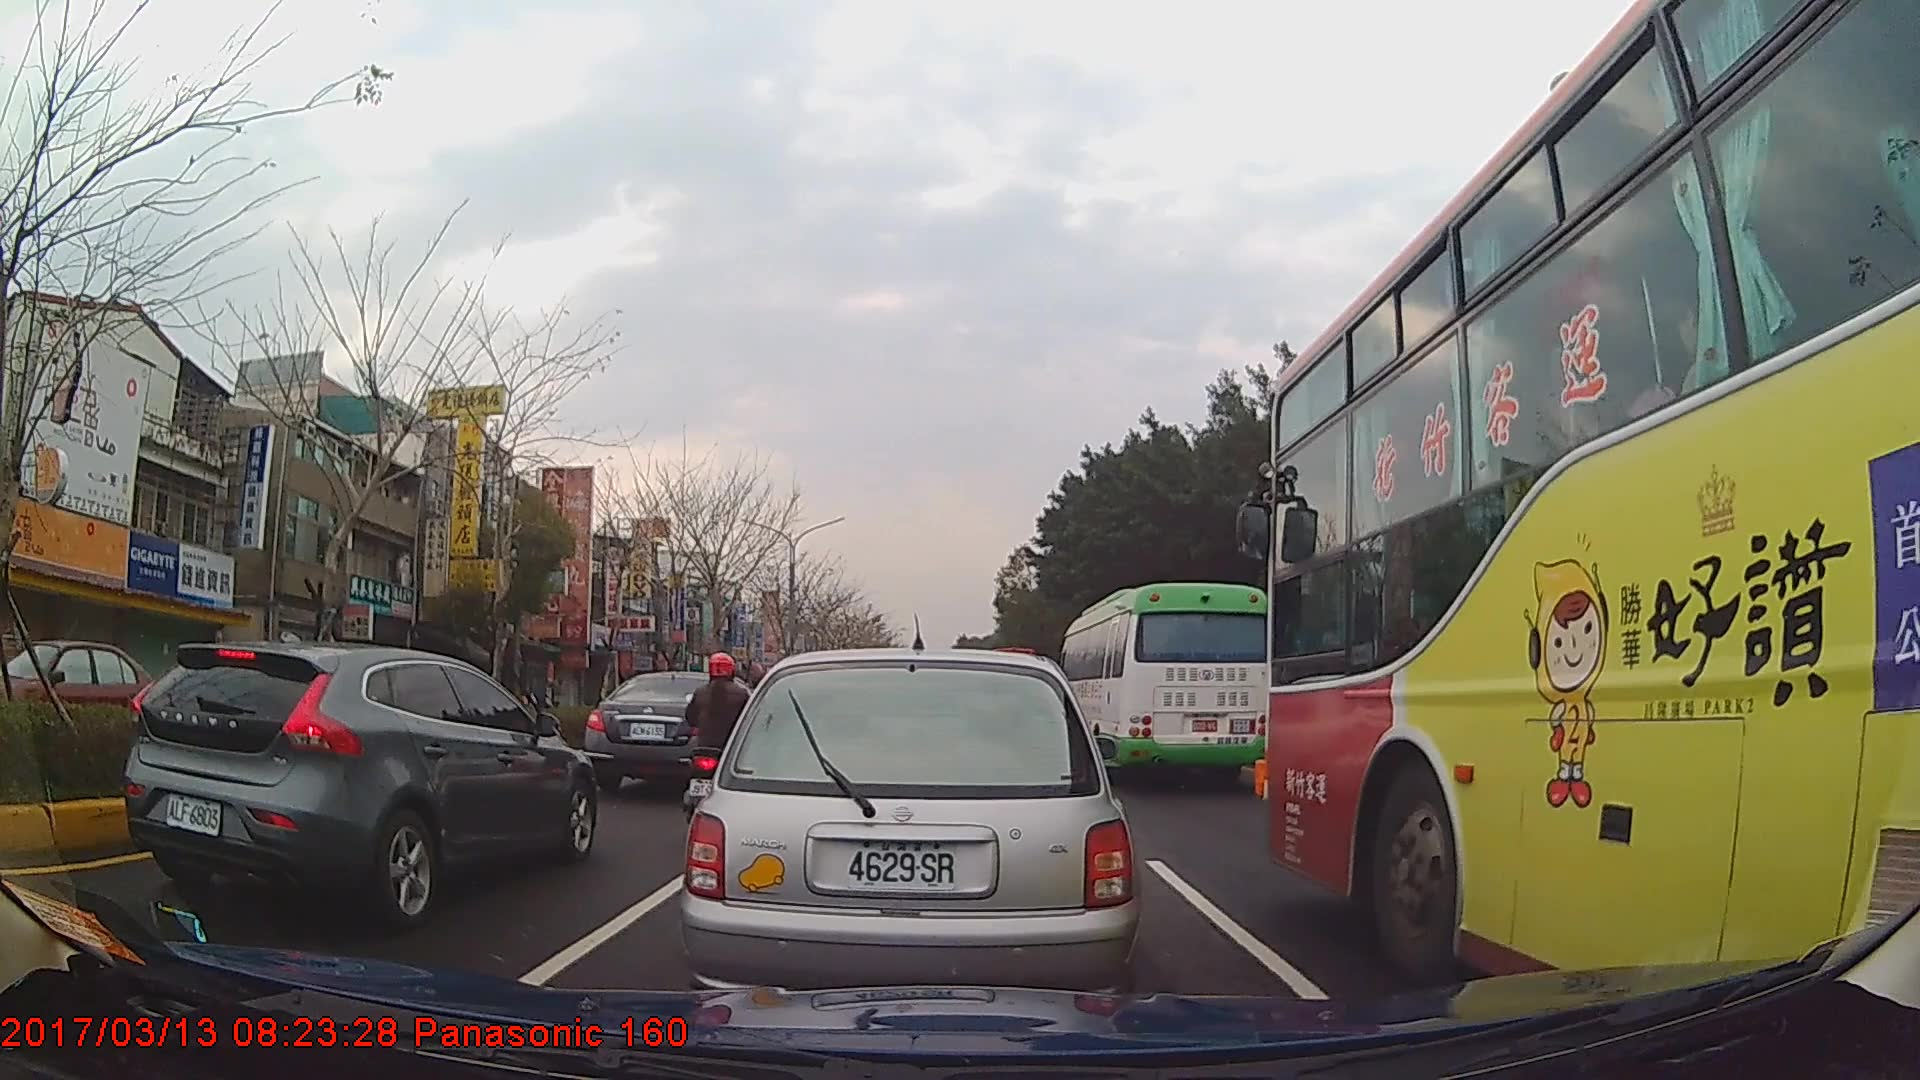rider: (682, 650, 763, 832)
vehicle: (1263, 0, 1920, 1001), (681, 640, 1141, 1016), (120, 639, 599, 931), (1057, 581, 1275, 784), (585, 670, 759, 793), (0, 637, 163, 751)
